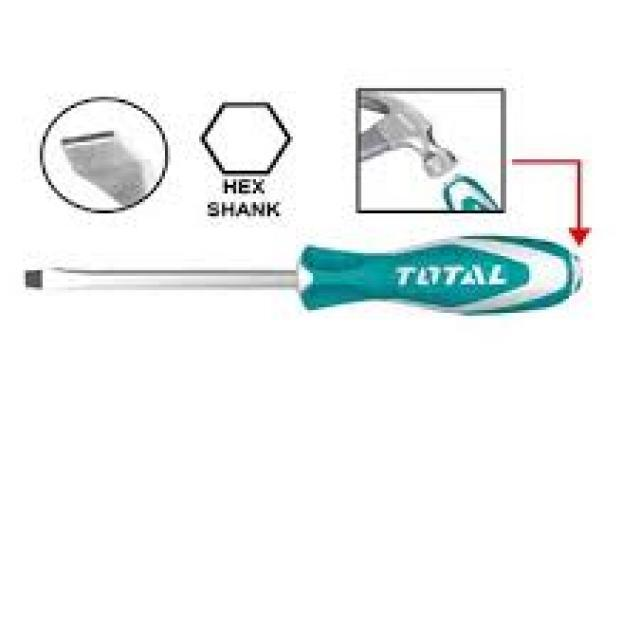hammer: (357, 85, 462, 188)
screwdriver: (14, 223, 589, 317)
